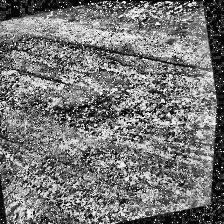pothole: (54, 85, 150, 150)
